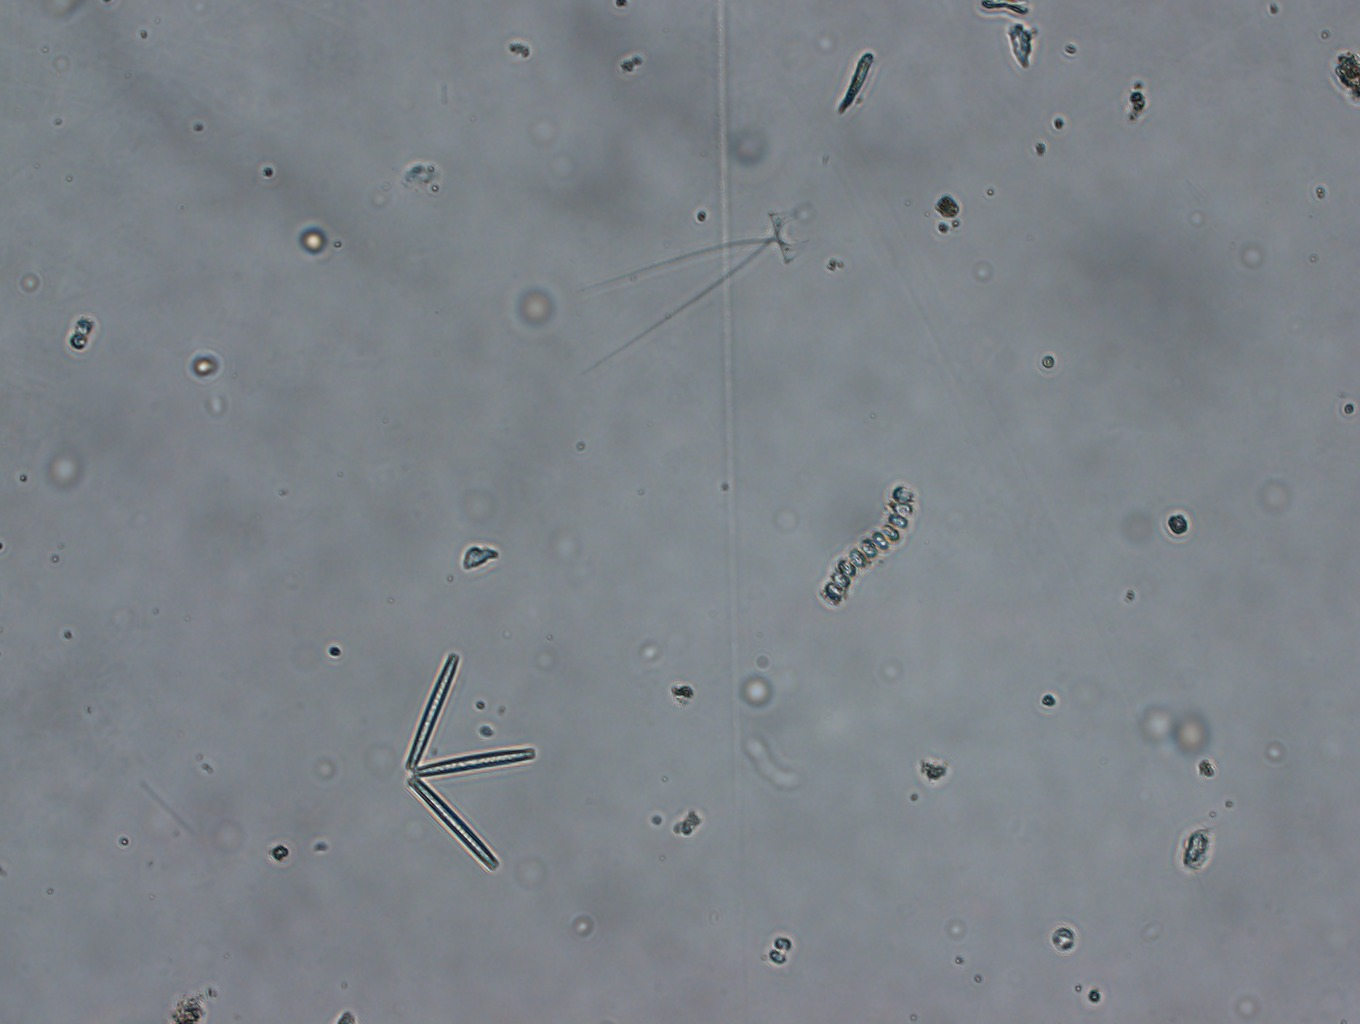chaetoceros: (566, 207, 810, 370)
skeletonema: (821, 477, 918, 611)
thalassionema nitzschioides: (398, 651, 535, 867)
